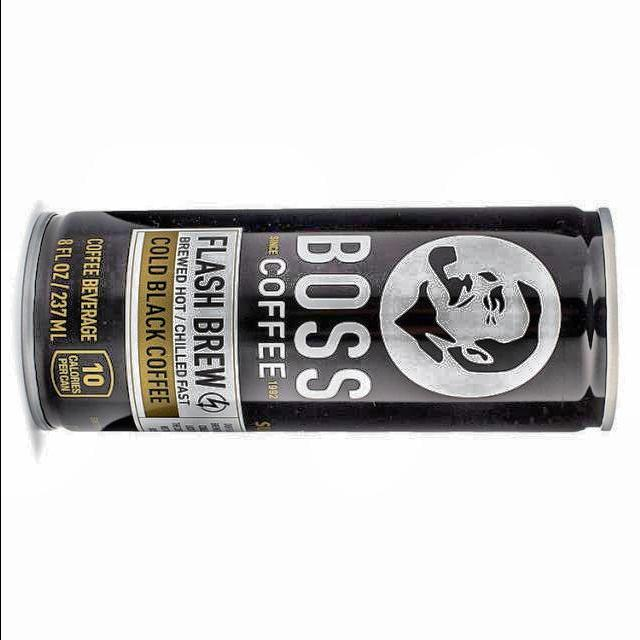litter: (14, 194, 630, 451)
